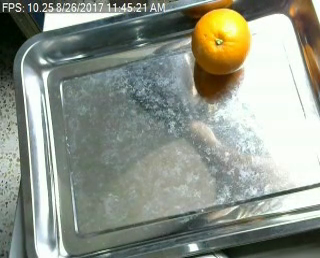Orange: (191, 9, 250, 74)
